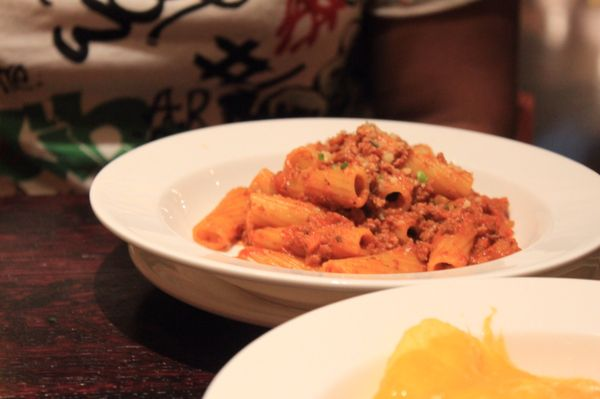sushi: (201, 275, 600, 394)
